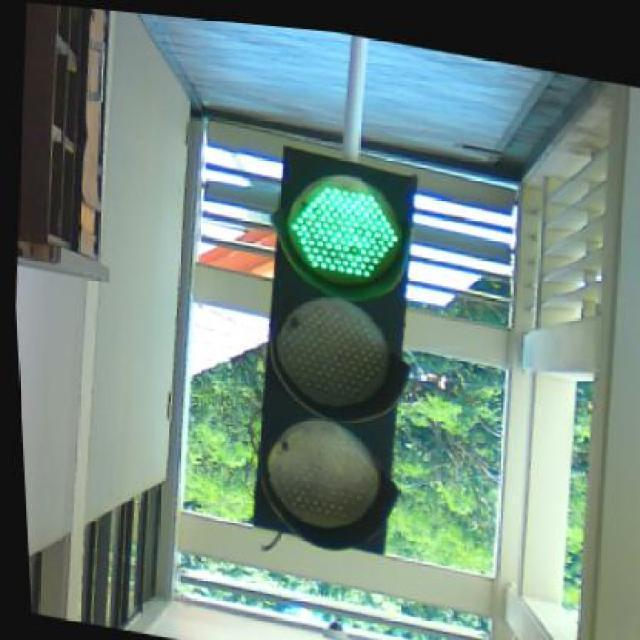green-traffic-lights: (276, 133, 402, 560)
